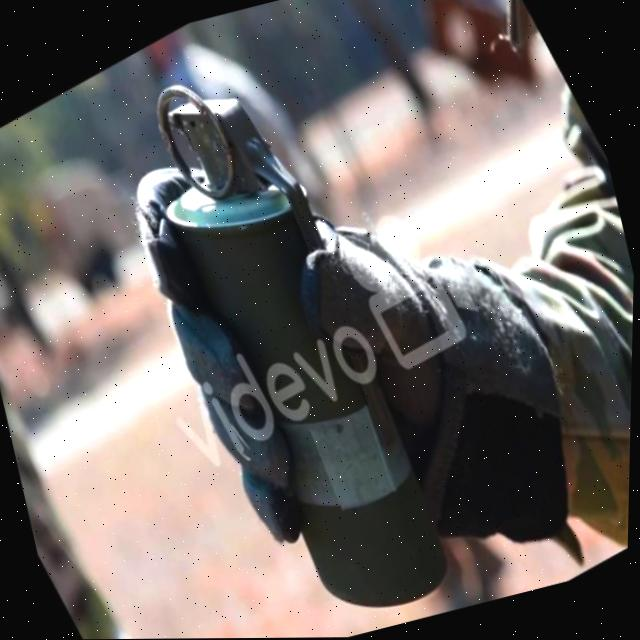grenade: (49, 3, 519, 640)
